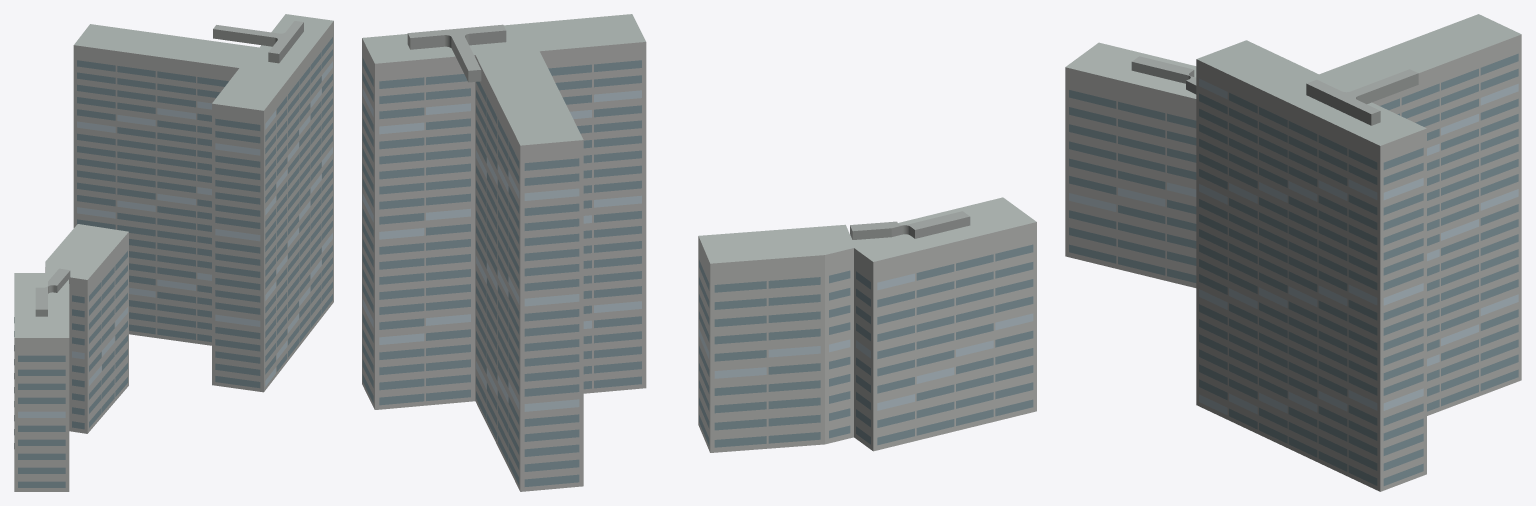
Rendered from apt-a13922102.glb.
The picture shows the model from 3 angles, left to right: view 1: azimuth 30°, elevation 25°; view 2: azimuth 150°, elevation 25°; view 3: azimuth 270°, elevation 25°; orthographic projection. The views are drawn at different scales.
Parts seen in each view (by area): view 1: apt-a13922102; view 2: apt-a13922102; view 3: apt-a13922102.
Part boxes in pixels (x1,y1,x2,y2): apt-a13922102: (14, 14, 333, 491); apt-a13922102: (362, 14, 1036, 491); apt-a13922102: (1065, 14, 1521, 491).
Size of the model in its own units: 116 by 74 by 85.64.
